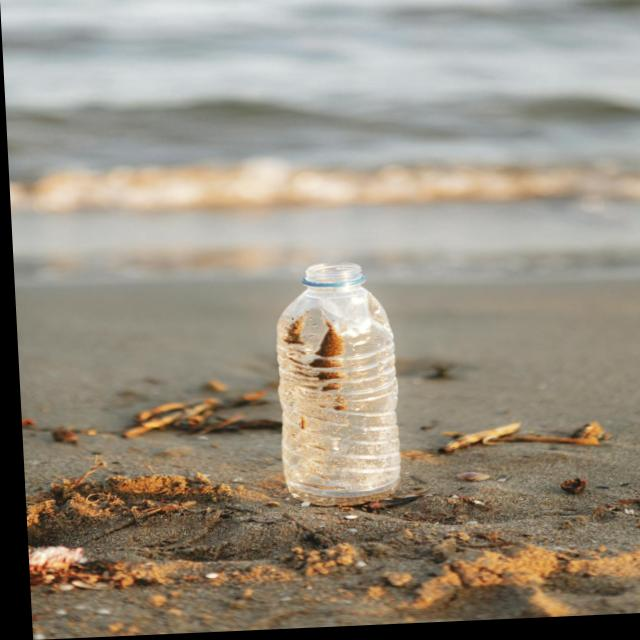Plastic: (253, 252, 414, 528)
